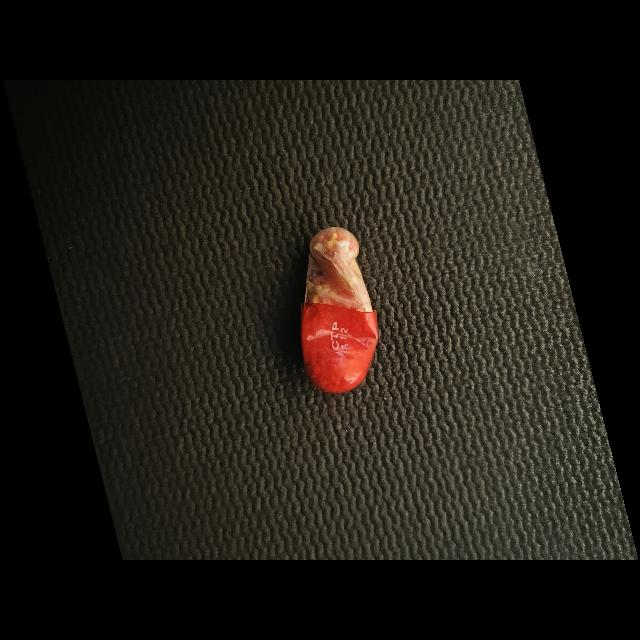Defective Capsule: (301, 227, 378, 393)
